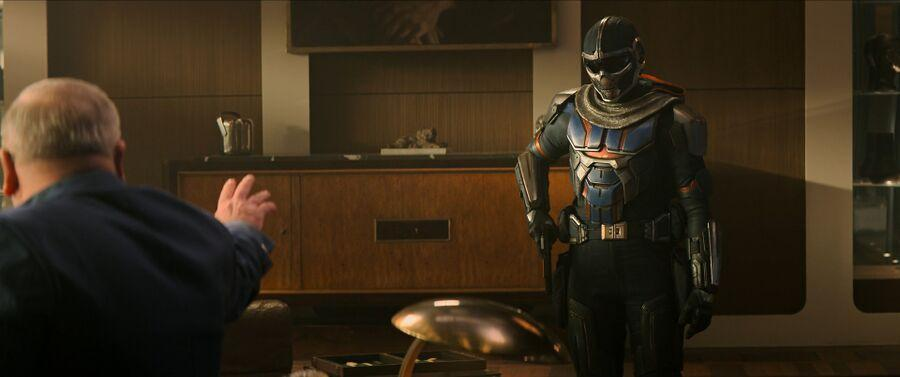gun: (532, 220, 558, 294)
